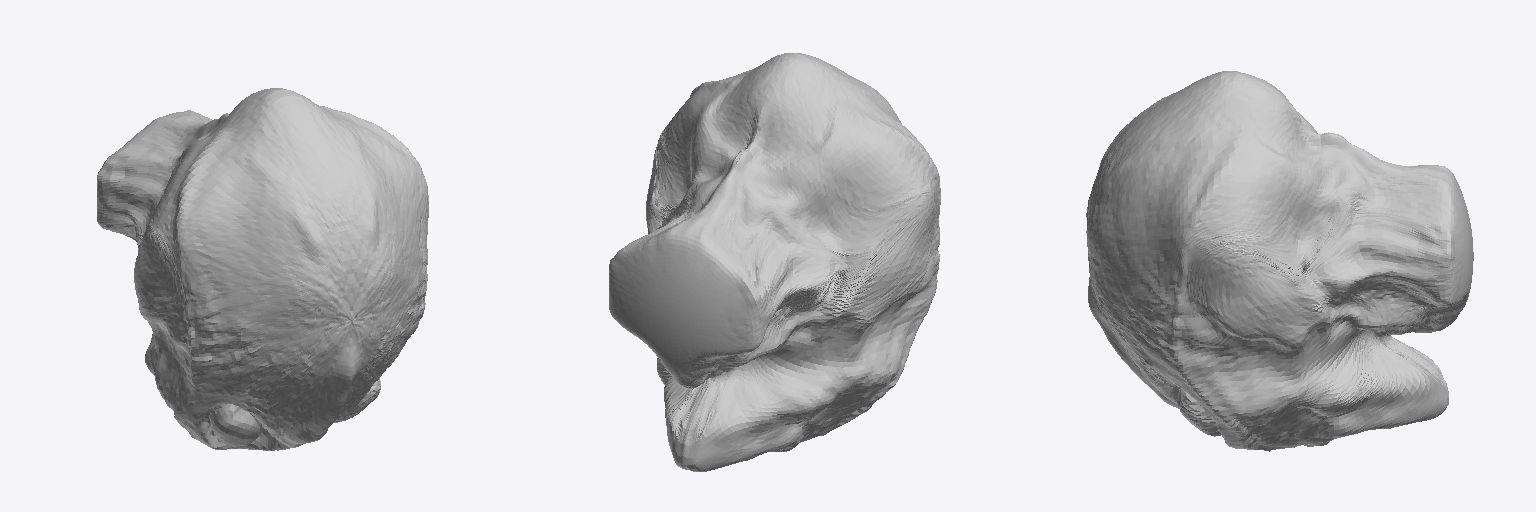
The model's file is alien head low poly .OBJ.
3 views of the same model, side by side, from view 1: azimuth 30°, elevation 25°; view 2: azimuth 150°, elevation 25°; view 3: azimuth 270°, elevation 25° (orthographic).
Parts seen in each view (by area): view 1: ZBrushPolyMesh3D; view 2: ZBrushPolyMesh3D; view 3: ZBrushPolyMesh3D.
Part boxes in pixels (bbox=[...]): ZBrushPolyMesh3D: bbox=[97, 88, 428, 450]; ZBrushPolyMesh3D: bbox=[609, 53, 940, 471]; ZBrushPolyMesh3D: bbox=[1086, 71, 1473, 451].
Bounding box in the file's own units: 108 × 140 × 135.